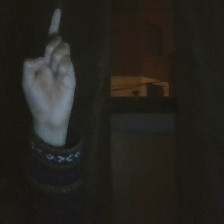D: (19, 4, 81, 132)
